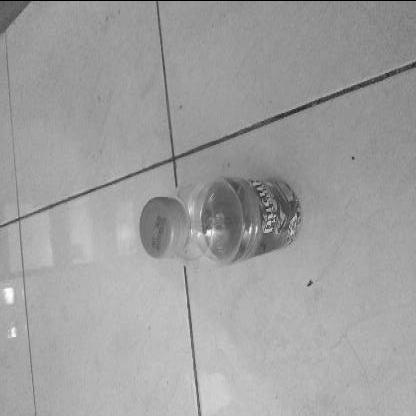plastic_bottles: (136, 168, 304, 268)
